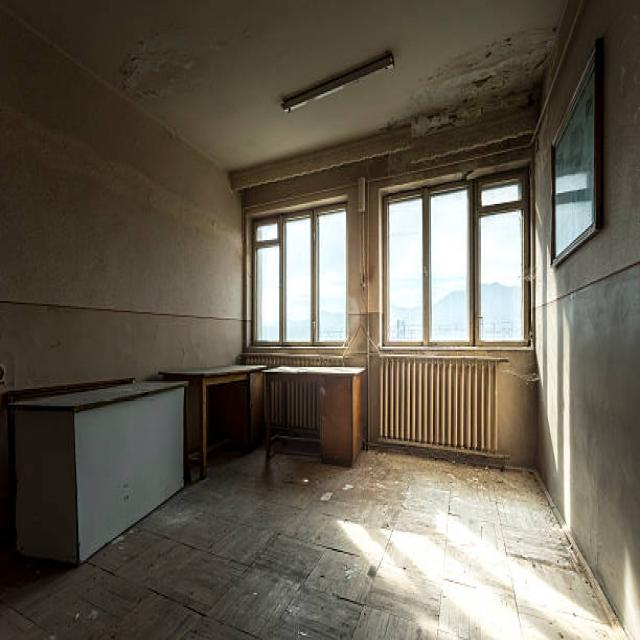floor: (0, 436, 633, 640)
wall: (0, 4, 243, 396), (233, 92, 538, 358), (533, 0, 640, 640), (246, 195, 349, 345), (548, 37, 603, 269)
